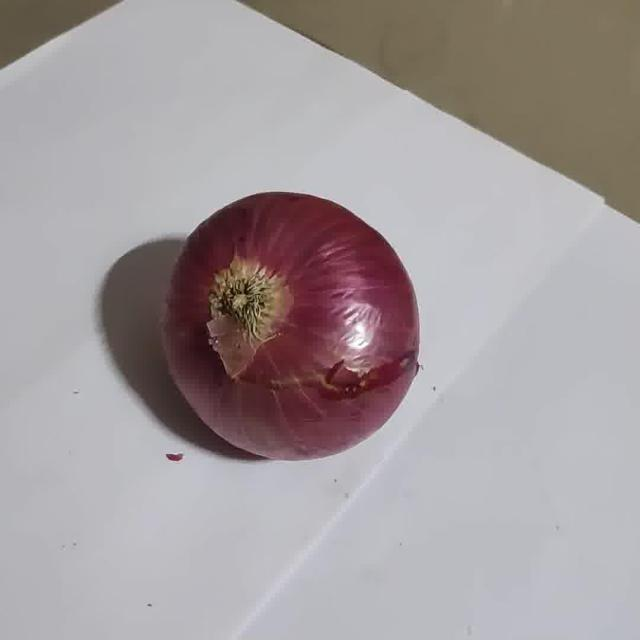Onion: (163, 192, 420, 460)
